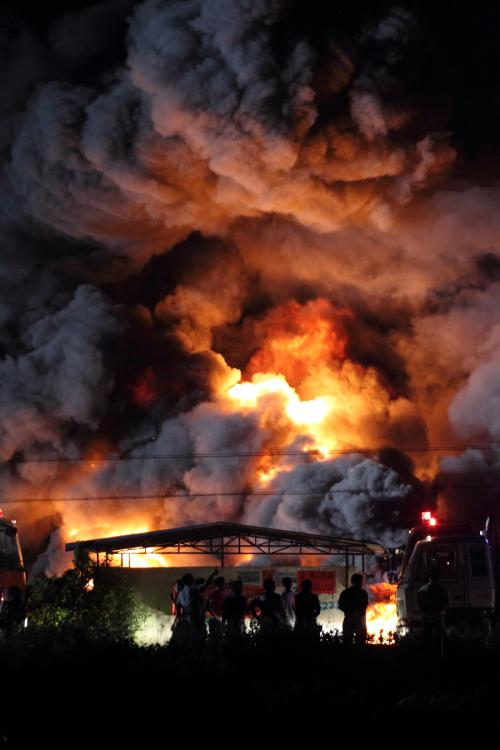fire: (41, 389, 436, 567)
smoke: (20, 14, 481, 300)
